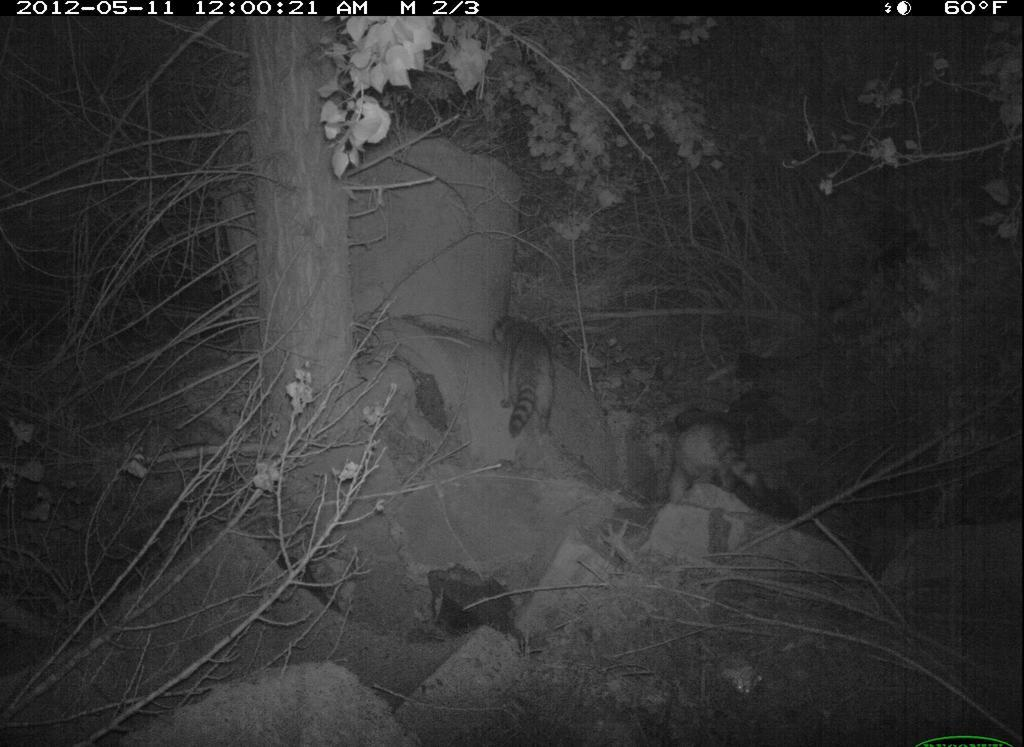raccoon: (658, 406, 776, 520), (481, 312, 563, 443)
